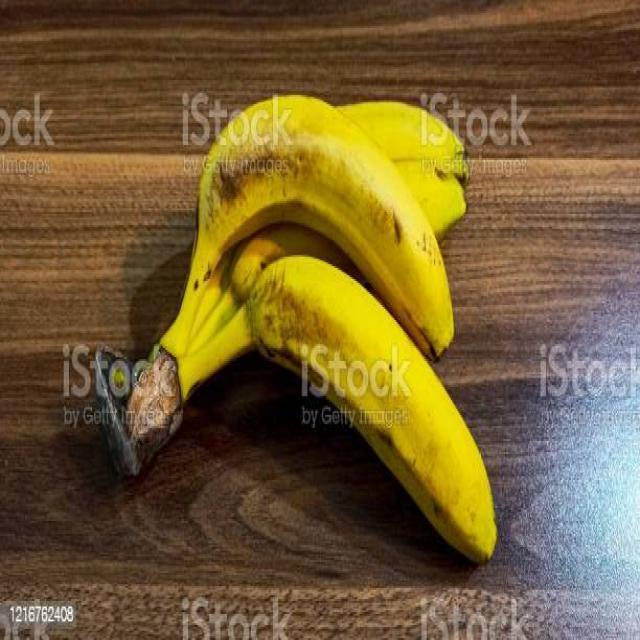Banana: (87, 83, 502, 570)
